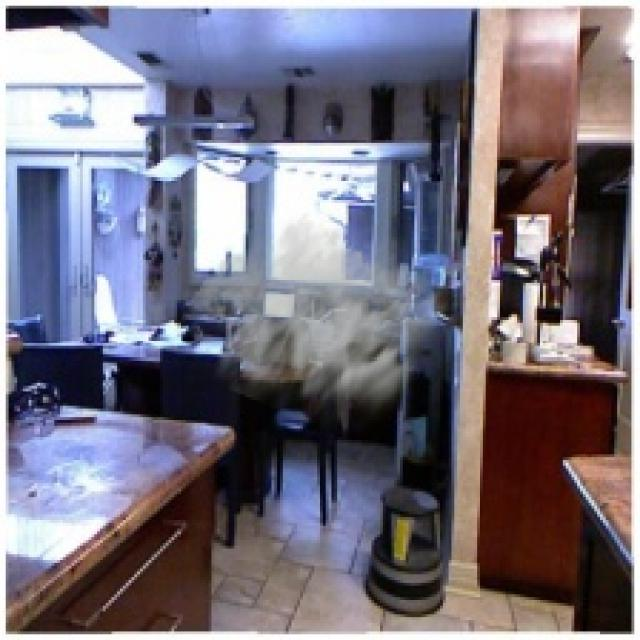smoke: (177, 211, 460, 446)
